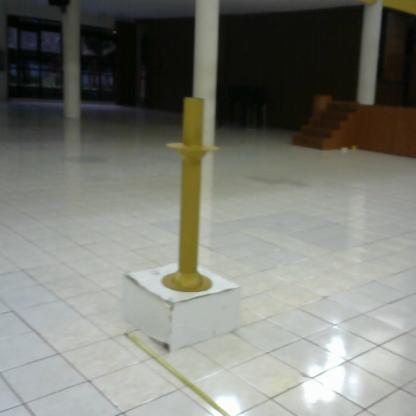pole: (163, 95, 223, 298)
